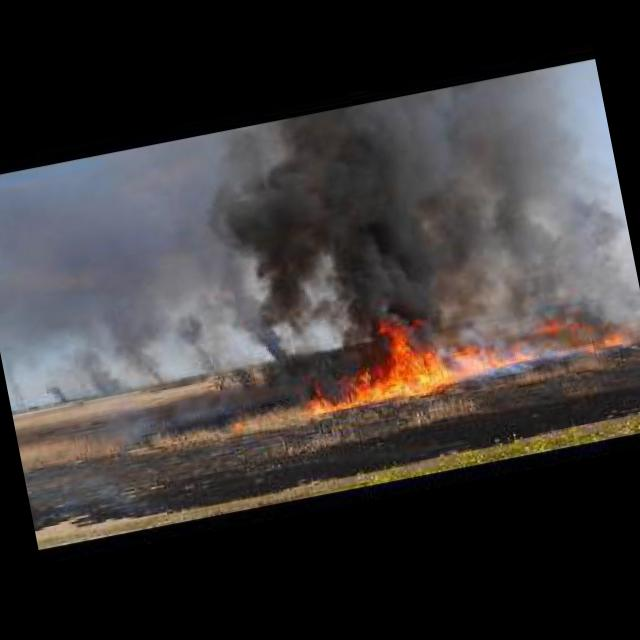fire: (287, 277, 530, 418), (558, 328, 638, 358), (535, 304, 589, 336), (226, 412, 250, 433)
smoke: (212, 72, 592, 344), (120, 318, 168, 392), (174, 308, 222, 381), (71, 332, 119, 403), (246, 294, 287, 364), (0, 349, 32, 422), (41, 379, 72, 415)
